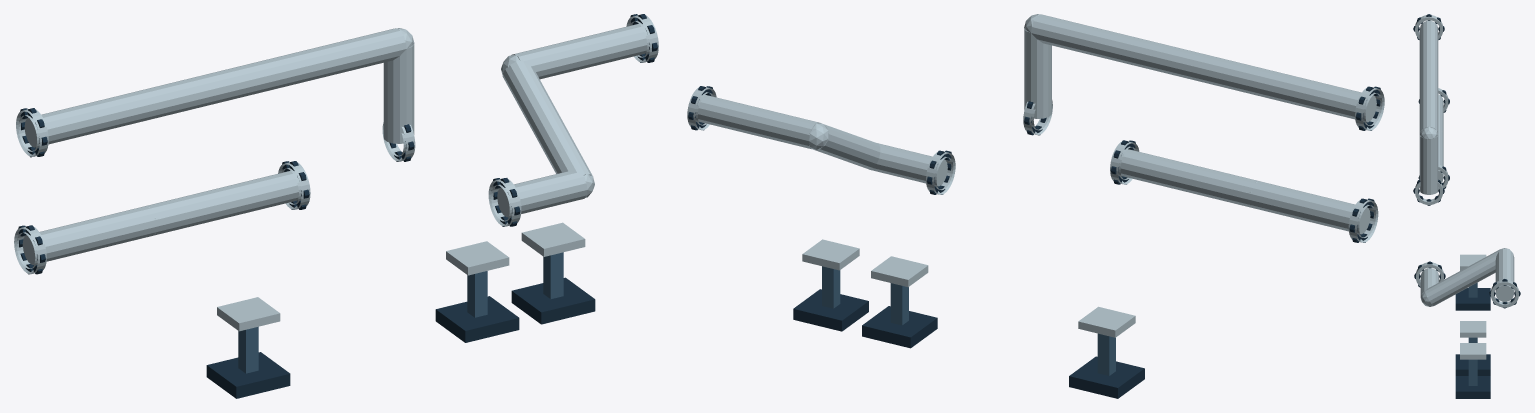
File: 29_L72_IndustrialVacuumForeline.fbx
3 renders of one model, left to right at view 1: azimuth 30°, elevation 25°; view 2: azimuth 150°, elevation 25°; view 3: azimuth 270°, elevation 25°, orthographic. The views are drawn at different scales.
Parts seen in each view (by area): view 1: IndustrialVacuumForeline; view 2: IndustrialVacuumForeline; view 3: IndustrialVacuumForeline.
Part boxes in pixels (x1,y1,x2,y2): IndustrialVacuumForeline: (14, 14, 658, 398); IndustrialVacuumForeline: (687, 14, 1384, 398); IndustrialVacuumForeline: (1413, 14, 1520, 398).
Size of the model in its own units: 531 by 269 by 122.
